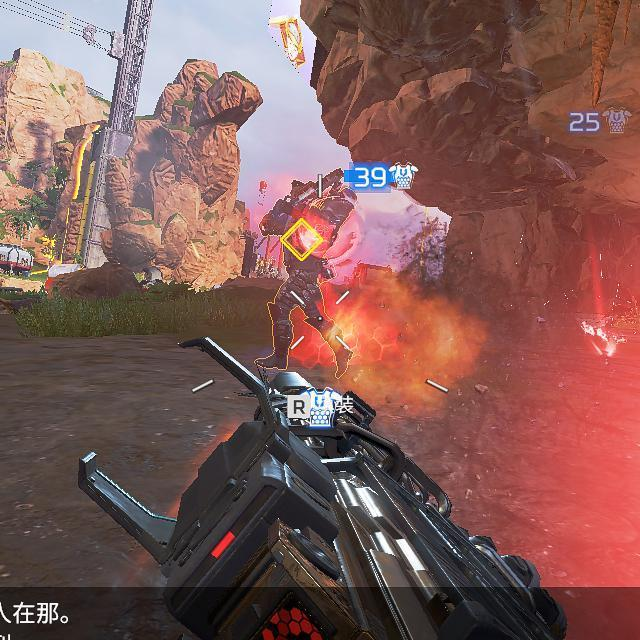avatar: (255, 167, 354, 380)
object: (279, 218, 324, 262)
